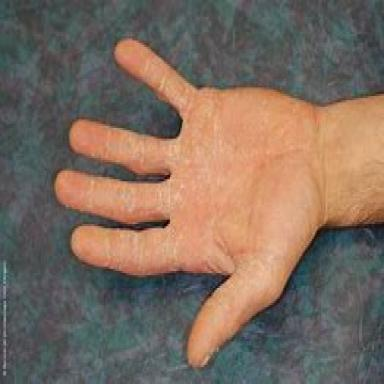eczema: (55, 41, 314, 366)
